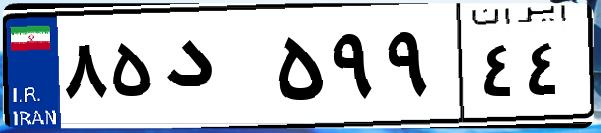4: (475, 38, 525, 113), (525, 38, 570, 115)
5: (270, 28, 330, 110), (110, 28, 158, 98)
8: (57, 26, 110, 100)
9: (385, 28, 445, 110), (330, 28, 385, 110)
د: (158, 20, 270, 120)
